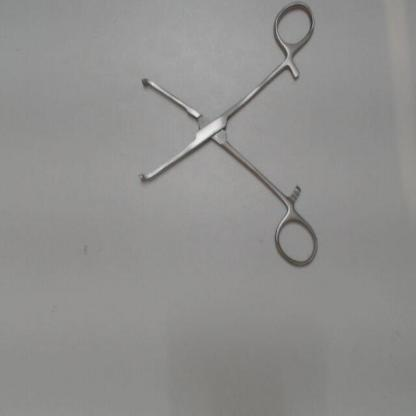Allis Tissue Forceps: (136, 0, 326, 276)
